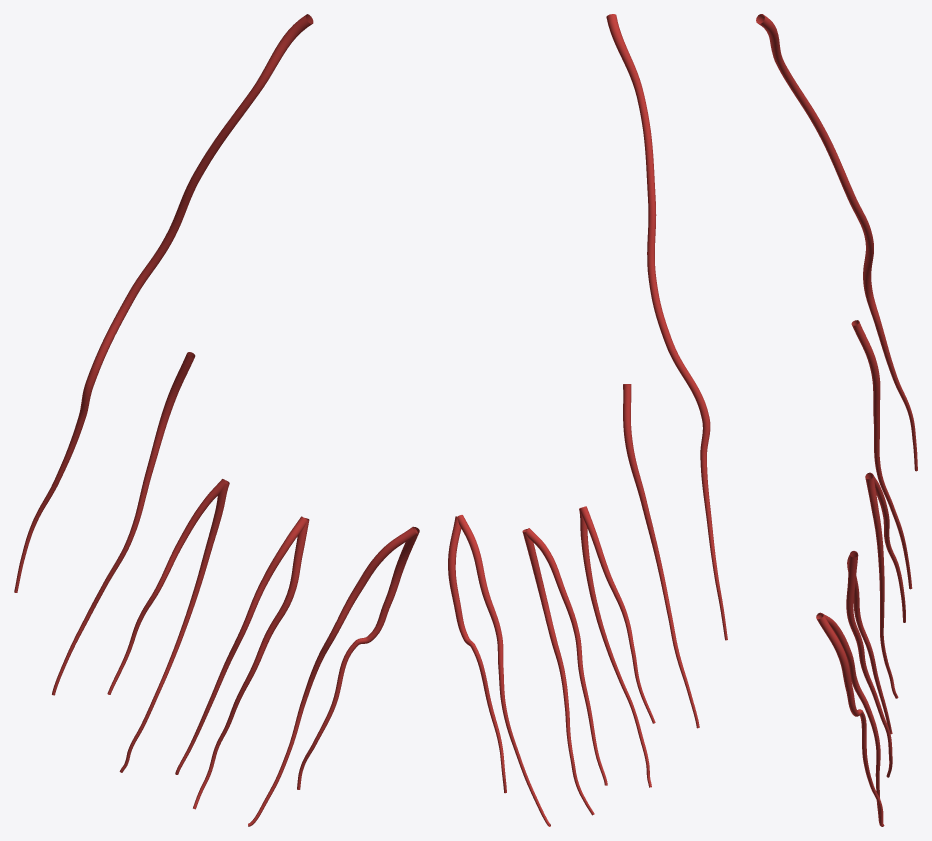
3 views of the same model, side by side, from view 1: azimuth 30°, elevation 25°; view 2: azimuth 150°, elevation 25°; view 3: azimuth 270°, elevation 25° (orthographic). The views are drawn at different scales.
Parts seen in each view (by area): view 1: 右侧趾背动脉; view 2: 右侧趾背动脉; view 3: 右侧趾背动脉.
Part boxes in pixels (x1,y1,x2,y2): 右侧趾背动脉: [14, 14, 419, 826]; 右侧趾背动脉: [448, 14, 727, 826]; 右侧趾背动脉: [756, 14, 917, 826].
Size of the model in its own units: 0.0928 by 0.2157 by 0.0391.
